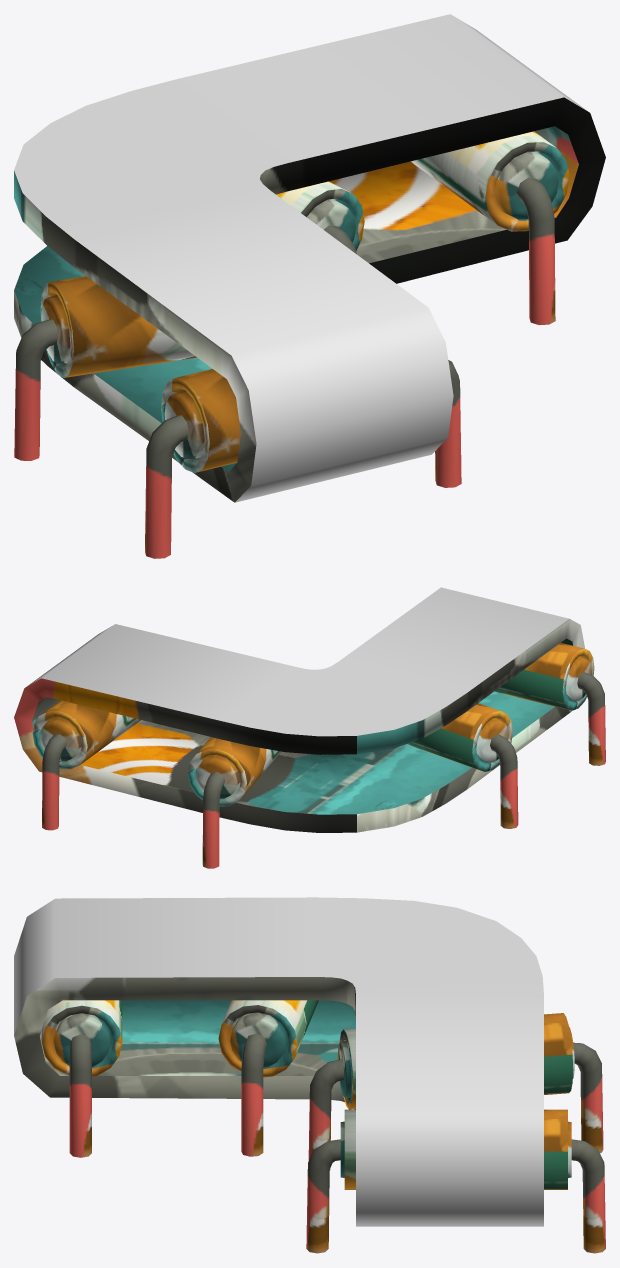
The model's file is Mounted90ConveyorBelt.fbx.
3 renders of one model, top to bottom at view 1: azimuth 30°, elevation 25°; view 2: azimuth 150°, elevation 25°; view 3: azimuth 270°, elevation 25°, orthographic. The views are drawn at different scales.
Parts seen in each view (by area): view 1: Mounted90ConveyorBelt; view 2: Mounted90ConveyorBelt; view 3: Mounted90ConveyorBelt.
Boxes of the visible parts, x1=… form: Mounted90ConveyorBelt: x1=14, y1=14, x2=605, y2=558; Mounted90ConveyorBelt: x1=14, y1=587, x2=605, y2=868; Mounted90ConveyorBelt: x1=14, y1=897, x2=605, y2=1253.
Size of the model in its own units: 4.28 by 1.28 by 4.24.
